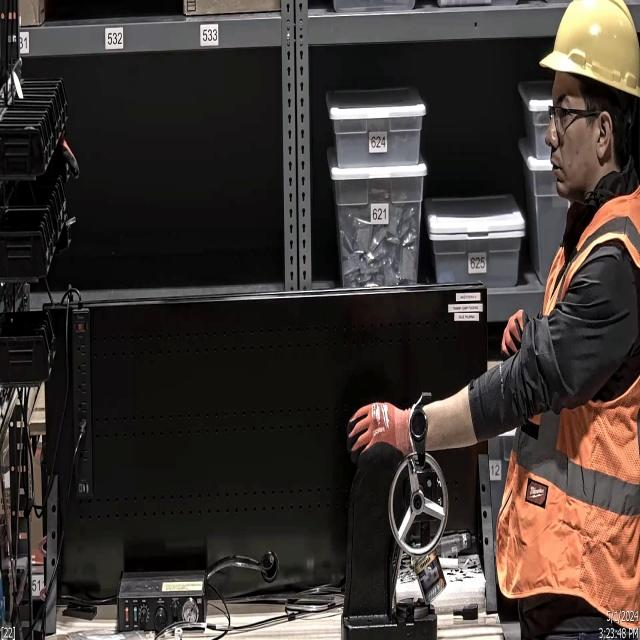gloves: (342, 396, 418, 462)
